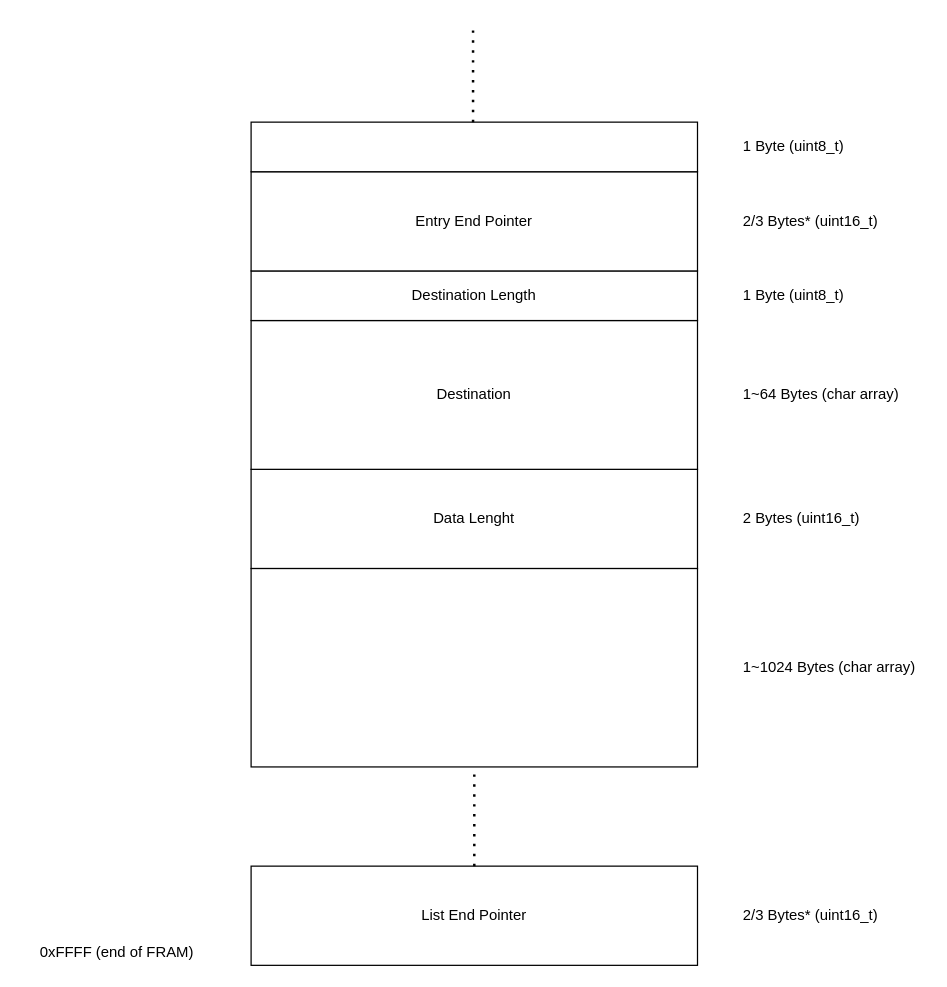
The diagram is 947 pixels wide and 987 high, and some of its shapes have lost their labels. Here are the shapes that lost their labels. From the top down, the centre of each, then its label:
(x=474, y=146): Destination Code
(x=474, y=667): Data
